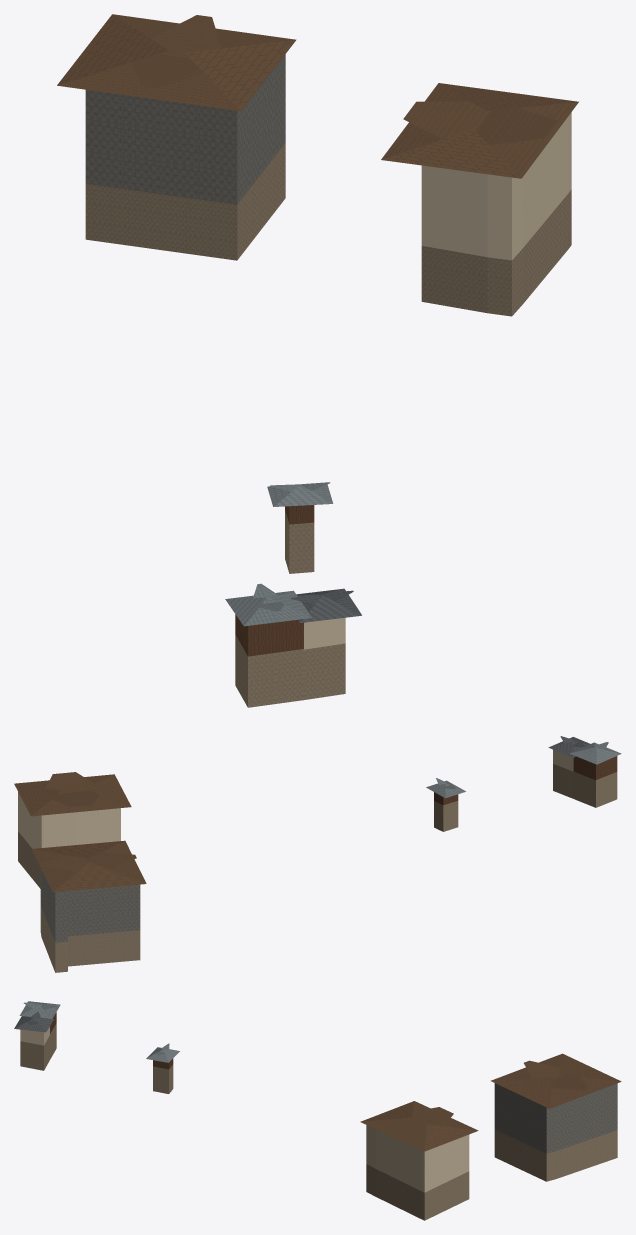
Rendered from bld_c40_33_290.gltf.
3 renders of one model, top to bottom at view 1: azimuth 30°, elevation 25°; view 2: azimuth 150°, elevation 25°; view 3: azimuth 270°, elevation 25°, orthographic. The views are drawn at different scales.
Visible parts, largest first — view 1: bld_c40_33_290; view 2: bld_c40_33_290; view 3: bld_c40_33_290.
Part boxes in pixels (box(x1,y1,x2,y2)): bld_c40_33_290: box(57, 14, 578, 707); bld_c40_33_290: box(14, 736, 621, 972); bld_c40_33_290: box(14, 1001, 621, 1220).
Size of the model in its own units: 69.73 by 14.9 by 100.
Materials: 7 (7 with a texture image).
